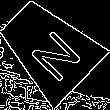N_NW: (17, 16, 80, 80)
